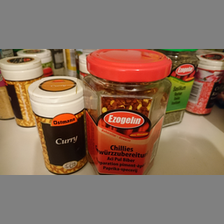spices: (86, 49, 171, 174), (27, 74, 87, 174), (1, 56, 42, 128)
